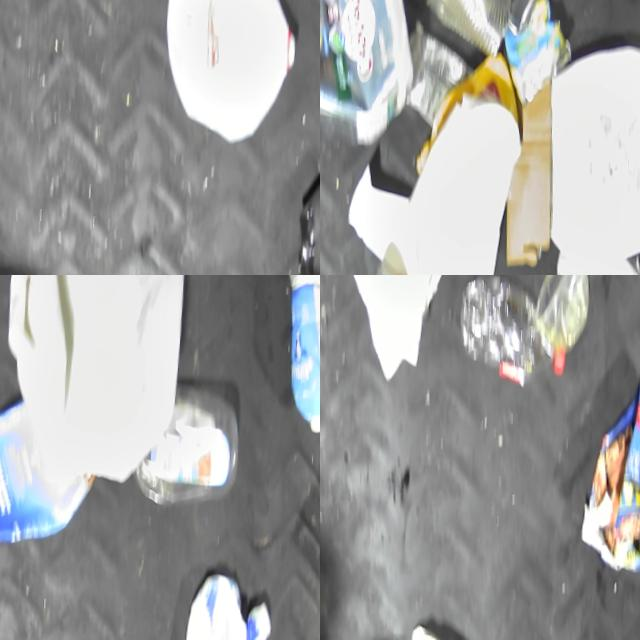can: (422, 0, 528, 51)
milk_jug: (0, 275, 197, 485), (546, 29, 640, 266), (161, 0, 302, 144)
non_white_jug: (0, 392, 104, 547), (281, 275, 320, 428)
plastic_bottle: (332, 275, 494, 378), (461, 275, 574, 378)
